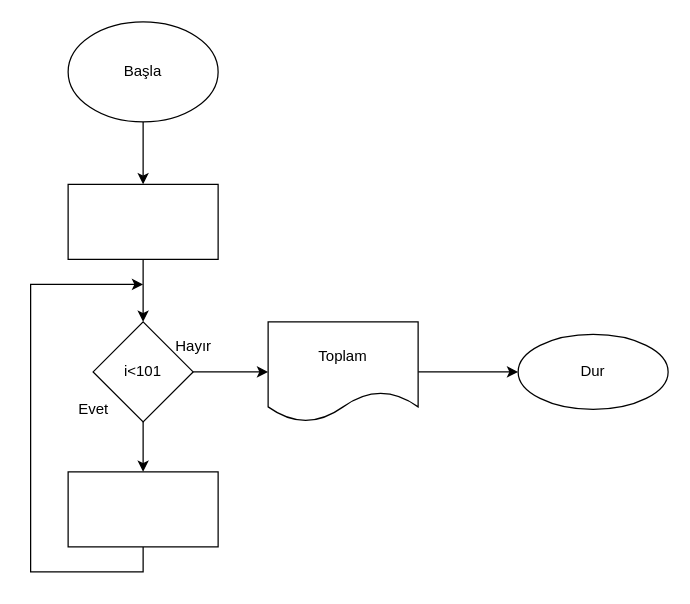
This 690x604 diagram has some shape labels left out. The shapes that lost their labels are listed below. From the top down, each one's box as (x1, y1, x2, y2) in pixels, then its label:
(67, 183, 218, 259): i=0 toplam=0
(67, 471, 218, 547): toplam=toplam+i i=i+1
